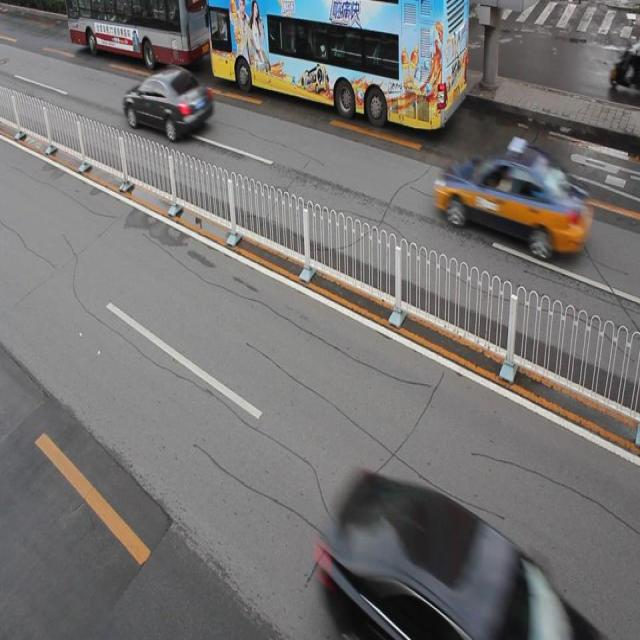car: (326, 471, 580, 640), (436, 140, 590, 258), (122, 66, 213, 140)
van: (207, 1, 466, 134), (65, 1, 210, 70)
